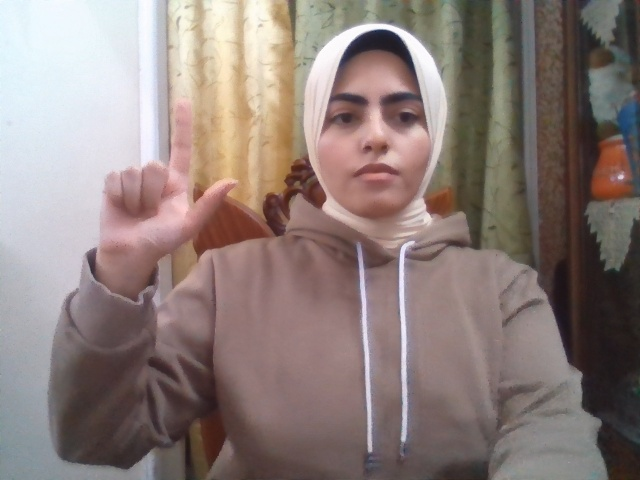L: (99, 97, 239, 258)
